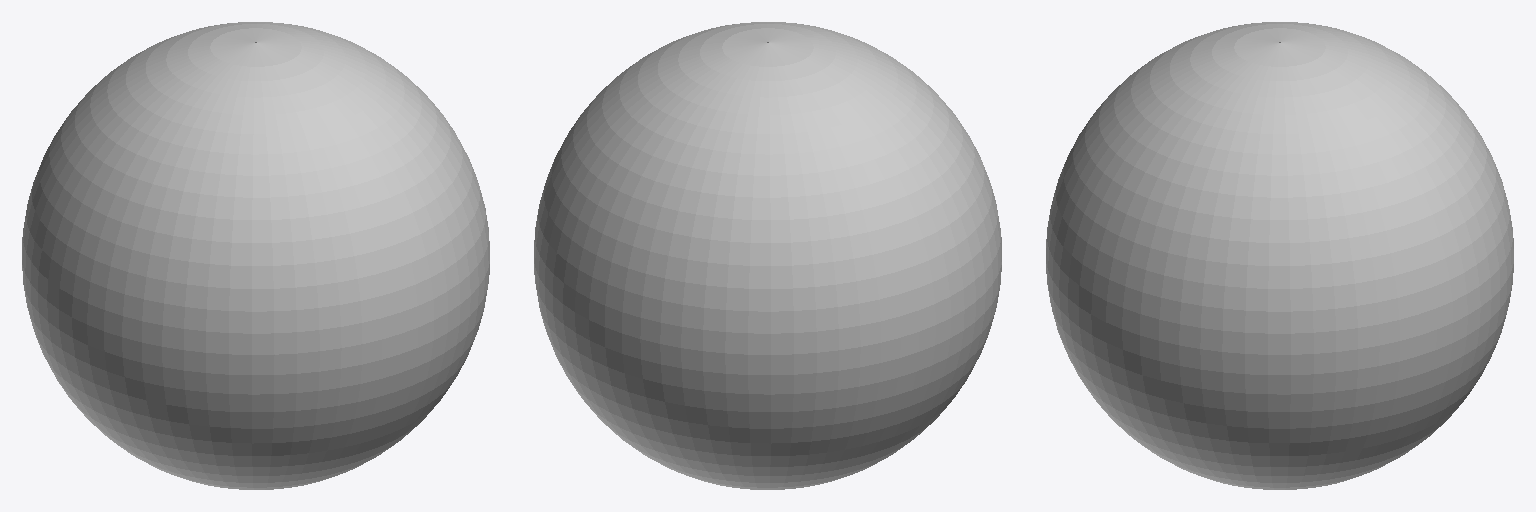
Rendered from earth1.obj.
3 renders of one model, left to right at view 1: azimuth 30°, elevation 25°; view 2: azimuth 150°, elevation 25°; view 3: azimuth 270°, elevation 25°, orthographic.
Parts seen in each view (by area): view 1: Sphere_Sphere_Earth_Day_Sphere_Sphere_Earth_Day_None; view 2: Sphere_Sphere_Earth_Day_Sphere_Sphere_Earth_Day_None; view 3: Sphere_Sphere_Earth_Day_Sphere_Sphere_Earth_Day_None.
Part boxes in pixels (bbox=[...]): Sphere_Sphere_Earth_Day_Sphere_Sphere_Earth_Day_None: bbox=[22, 22, 489, 489]; Sphere_Sphere_Earth_Day_Sphere_Sphere_Earth_Day_None: bbox=[534, 22, 1001, 489]; Sphere_Sphere_Earth_Day_Sphere_Sphere_Earth_Day_None: bbox=[1046, 22, 1513, 489].
Size of the model in its own units: 2 by 2.01 by 2.